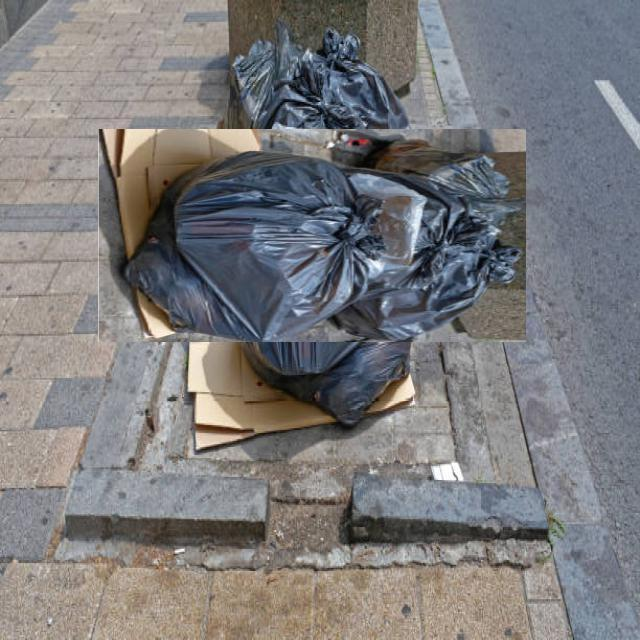Trashbag: (125, 150, 375, 339), (347, 145, 516, 336), (238, 34, 401, 138), (248, 332, 413, 425)
